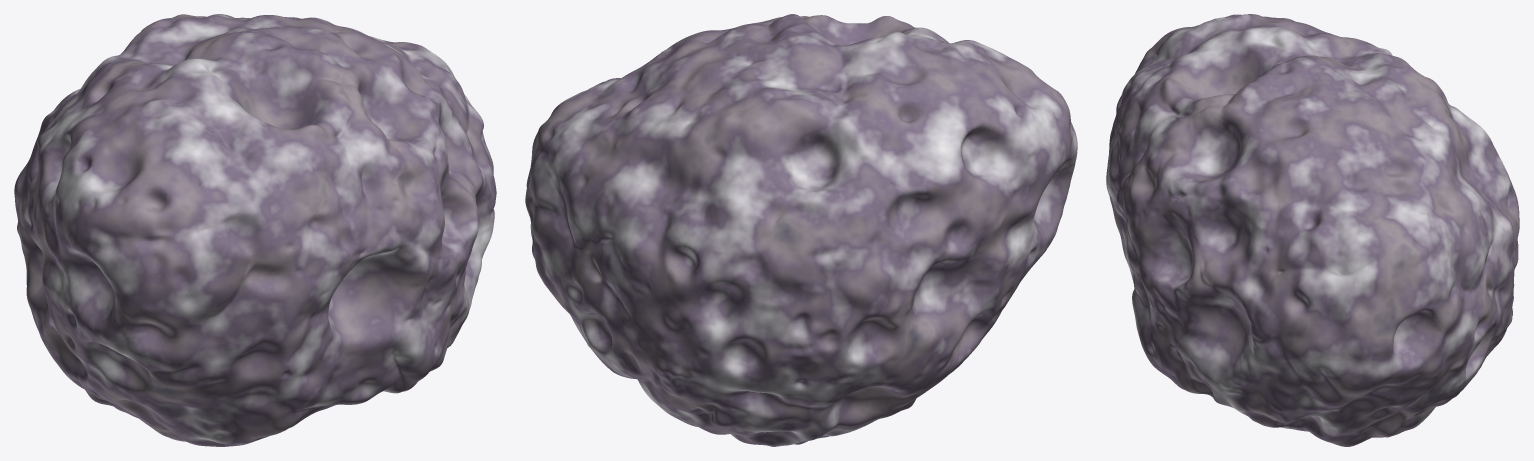
Rendered from AsteroidiSmall3.fbx.
3 renders of one model, left to right at view 1: azimuth 30°, elevation 25°; view 2: azimuth 150°, elevation 25°; view 3: azimuth 270°, elevation 25°, orthographic. The views are drawn at different scales.
Parts seen in each view (by area): view 1: Asteroid; view 2: Asteroid; view 3: Asteroid.
Part boxes in pixels (<box>): Asteroid: <box>14,14,496,446</box>; Asteroid: <box>525,14,1077,446</box>; Asteroid: <box>1106,14,1519,446</box>.
Size of the model in its own units: 2.36 by 1.87 by 1.98.
1 material, 1 textured.
